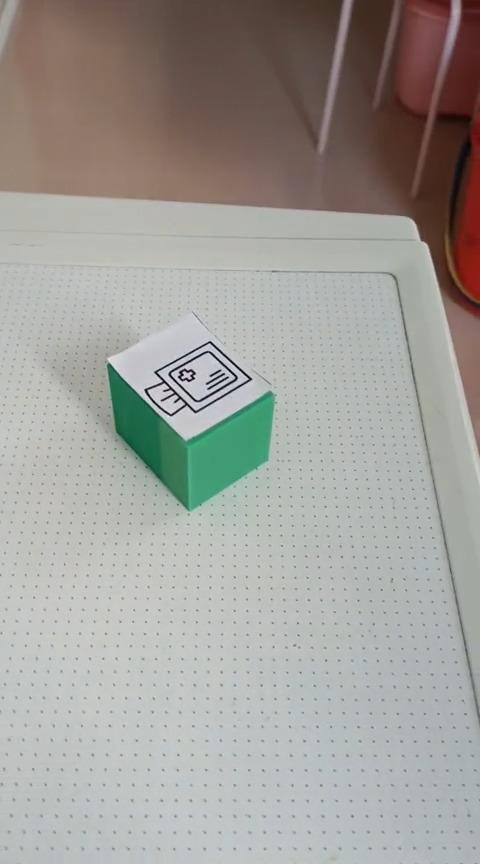Gauze: (105, 309, 276, 511)
